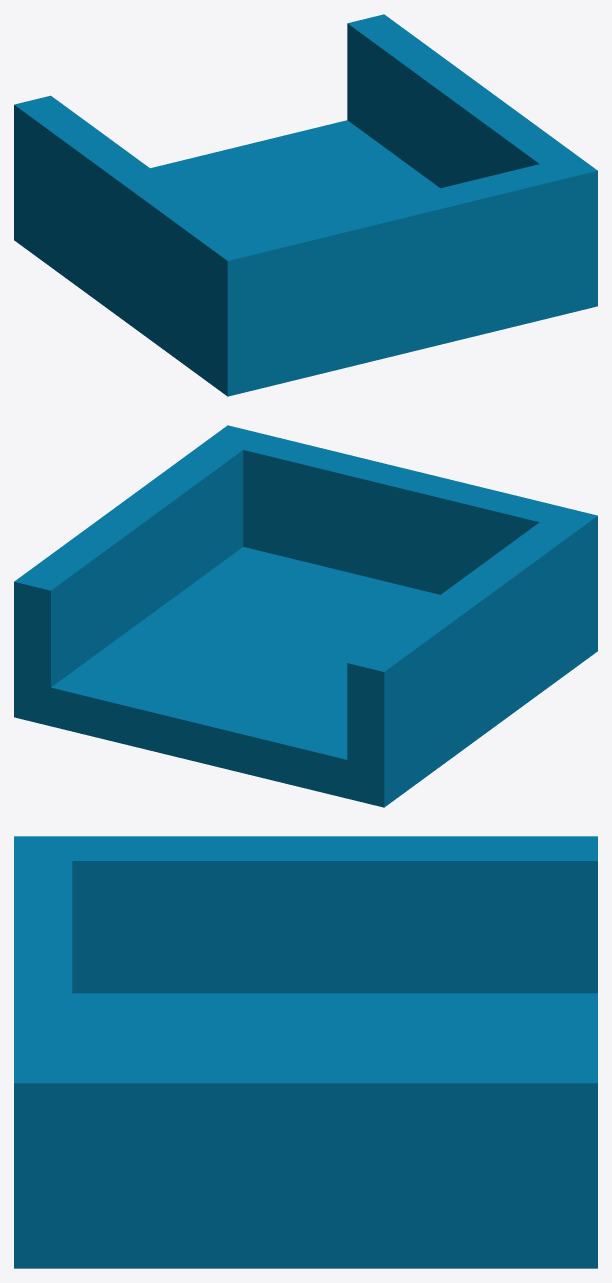
File: BlueRoof_3Edges_Small.glb
3 renders of one model, top to bottom at view 1: azimuth 30°, elevation 25°; view 2: azimuth 150°, elevation 25°; view 3: azimuth 270°, elevation 25°, orthographic. The views are drawn at different scales.
Visible parts, largest first — view 1: roof_flat_3Edges_small_blue; view 2: roof_flat_3Edges_small_blue; view 3: roof_flat_3Edges_small_blue.
Boxes of the visible parts, x1,y1,x2,y2 form: roof_flat_3Edges_small_blue: (14,14,597,396); roof_flat_3Edges_small_blue: (14,425,597,807); roof_flat_3Edges_small_blue: (14,836,597,1268).
Size of what is drawn, in the model's own units: 2 by 0.7 by 2.
Materials: 1 (1 with a texture image).
